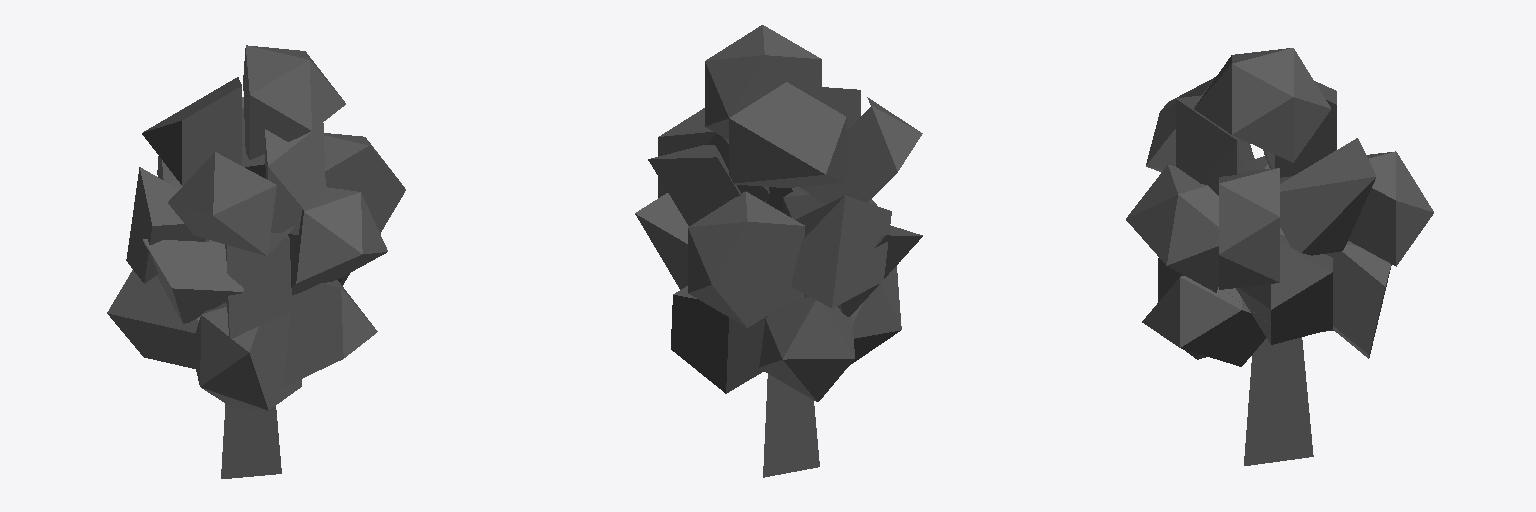
File: Tree.obj
3 views of the same model, side by side, from view 1: azimuth 30°, elevation 25°; view 2: azimuth 150°, elevation 25°; view 3: azimuth 270°, elevation 25° (orthographic).
Visible parts, largest first — view 1: pPlatonic1_Untitled.007; view 2: pPlatonic1_Untitled.007; view 3: pPlatonic1_Untitled.007.
Boxes of the visible parts, box(x1,y1,x2,y2) form: pPlatonic1_Untitled.007: box(107, 45, 405, 478); pPlatonic1_Untitled.007: box(635, 25, 922, 477); pPlatonic1_Untitled.007: box(1126, 48, 1433, 465).
Size of the model in its own units: 0.04 by 0.066 by 0.0448.